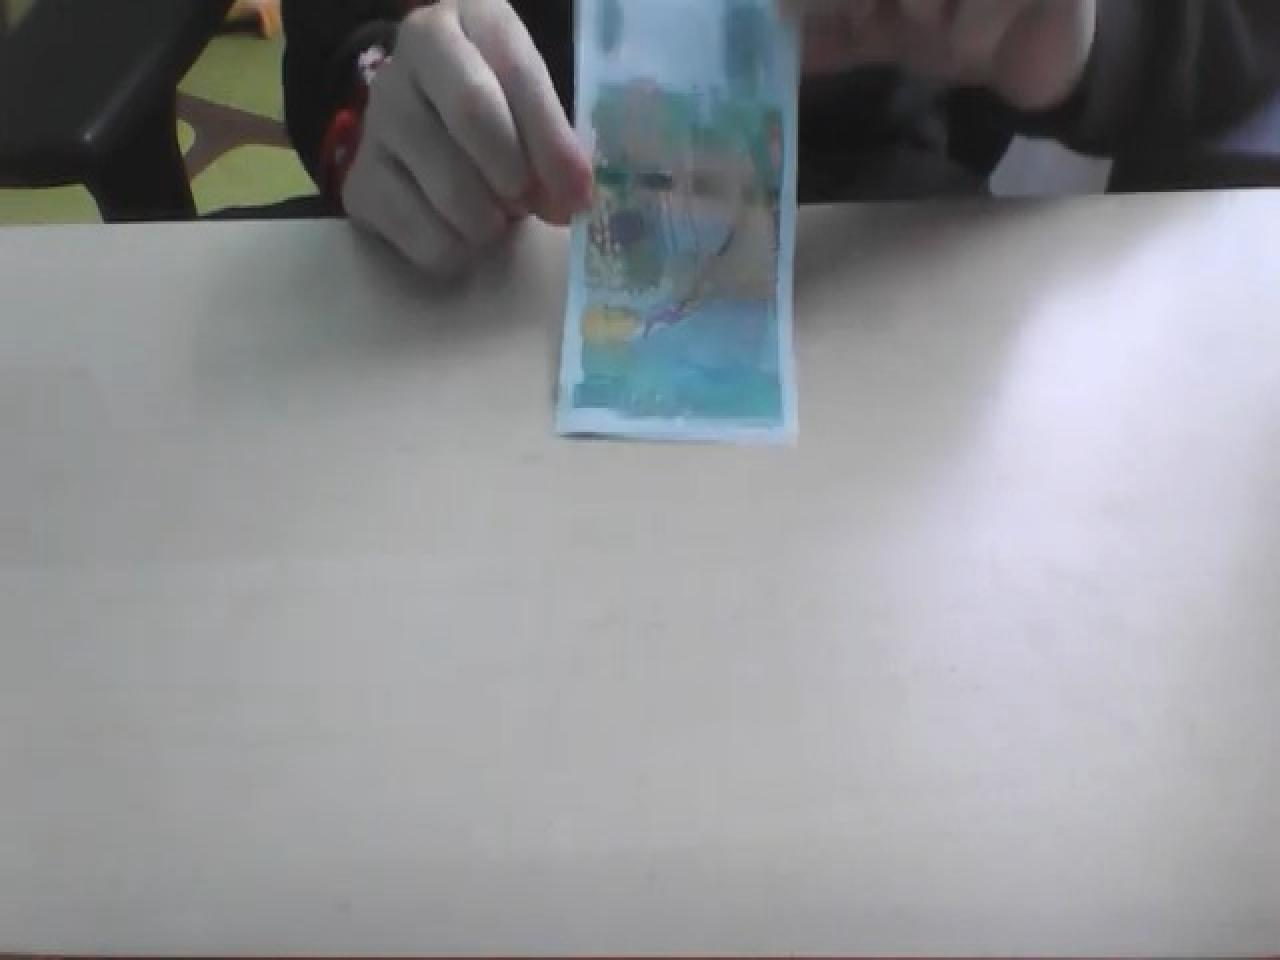100leva: (554, 0, 804, 443)
